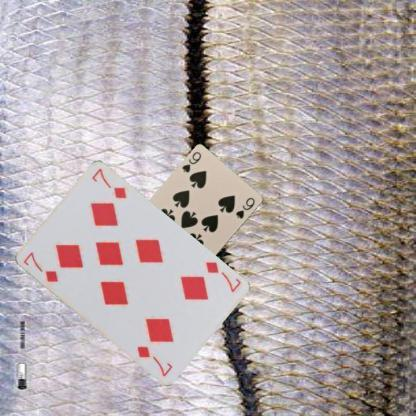7d: (202, 258, 242, 294), (20, 249, 60, 284)
9s: (179, 149, 202, 175)
